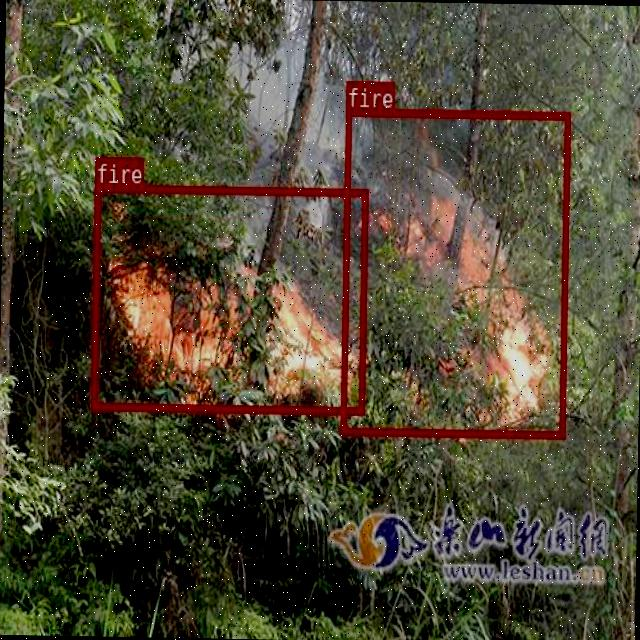fire: (339, 108, 569, 438), (90, 182, 367, 413)
